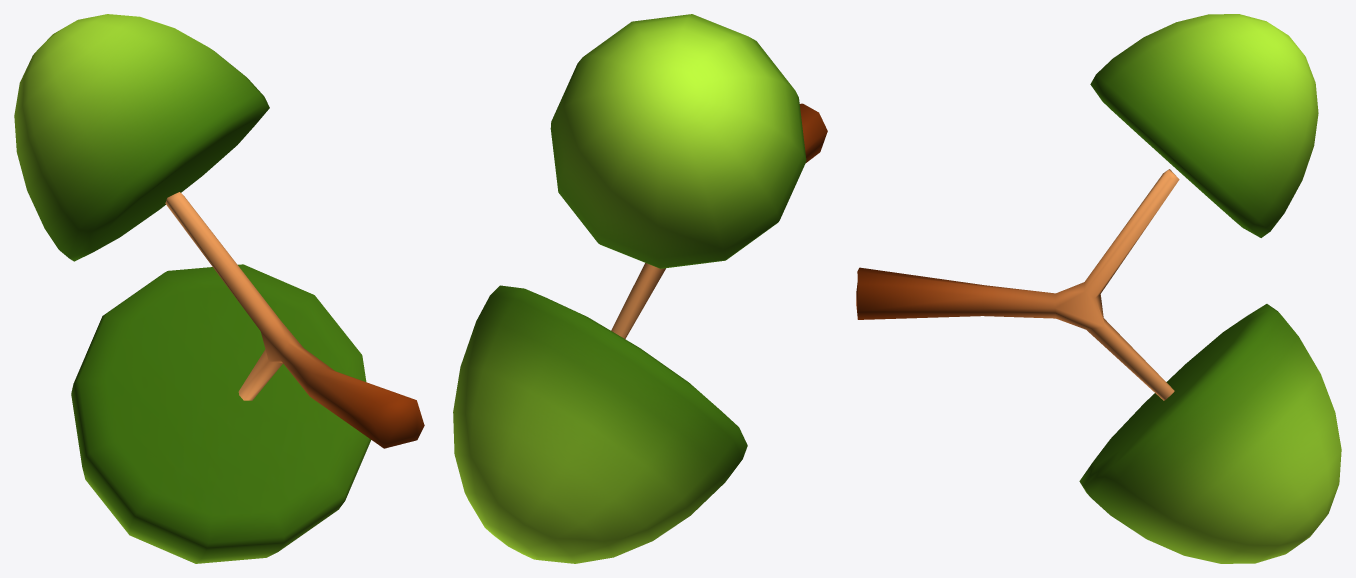
File: smallTreesph.fbx
3 renders of one model, left to right at view 1: azimuth 30°, elevation 25°; view 2: azimuth 150°, elevation 25°; view 3: azimuth 270°, elevation 25°, orthographic. The views are drawn at different scales.
Visible parts, largest first — view 1: treevar3.3; view 2: treevar3.3; view 3: treevar3.3.
Boxes of the visible parts, x1,y1,x2,y2 form: treevar3.3: [14, 14, 424, 563]; treevar3.3: [453, 14, 827, 563]; treevar3.3: [856, 14, 1341, 563].
Size of the model in its own units: 456 by 769 by 692.
